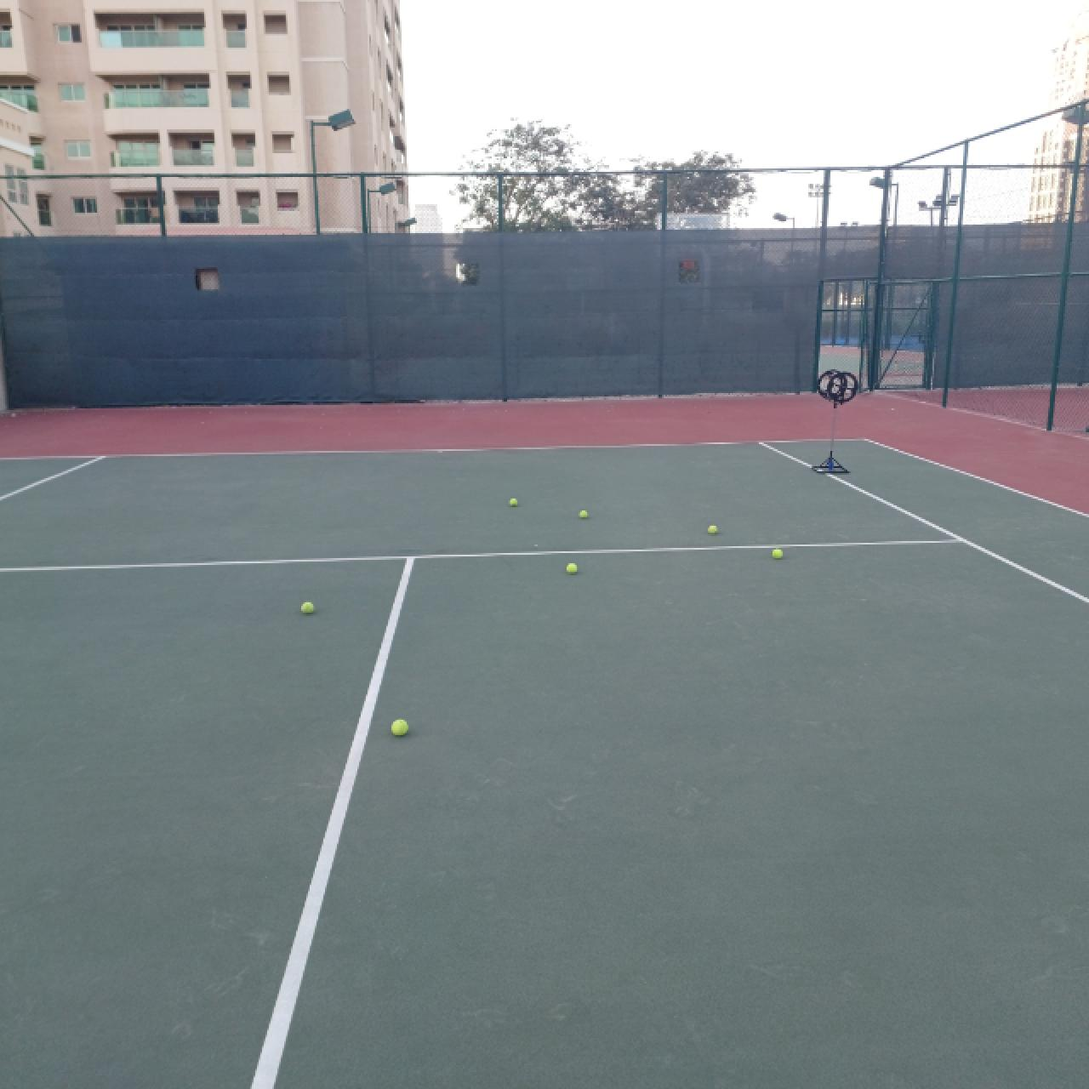tennis-ball: (390, 716, 410, 736), (300, 600, 317, 614), (565, 560, 579, 576), (772, 547, 784, 560), (707, 524, 719, 536), (579, 509, 589, 520), (509, 498, 519, 508)
